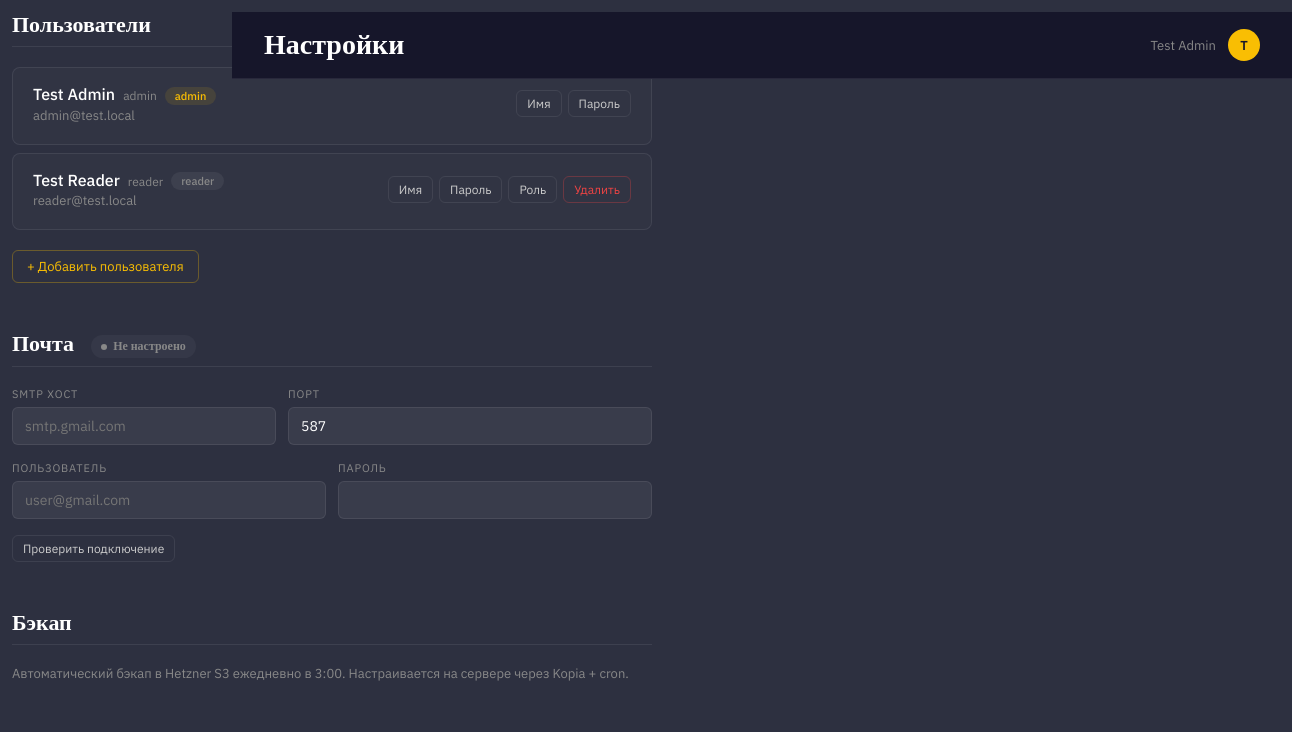
Test: AdminPage › SMTP test › error path: smtp-test 502 shows error message
Click the button "Проверить подключение" at (94, 549), box [12,535,175,562]
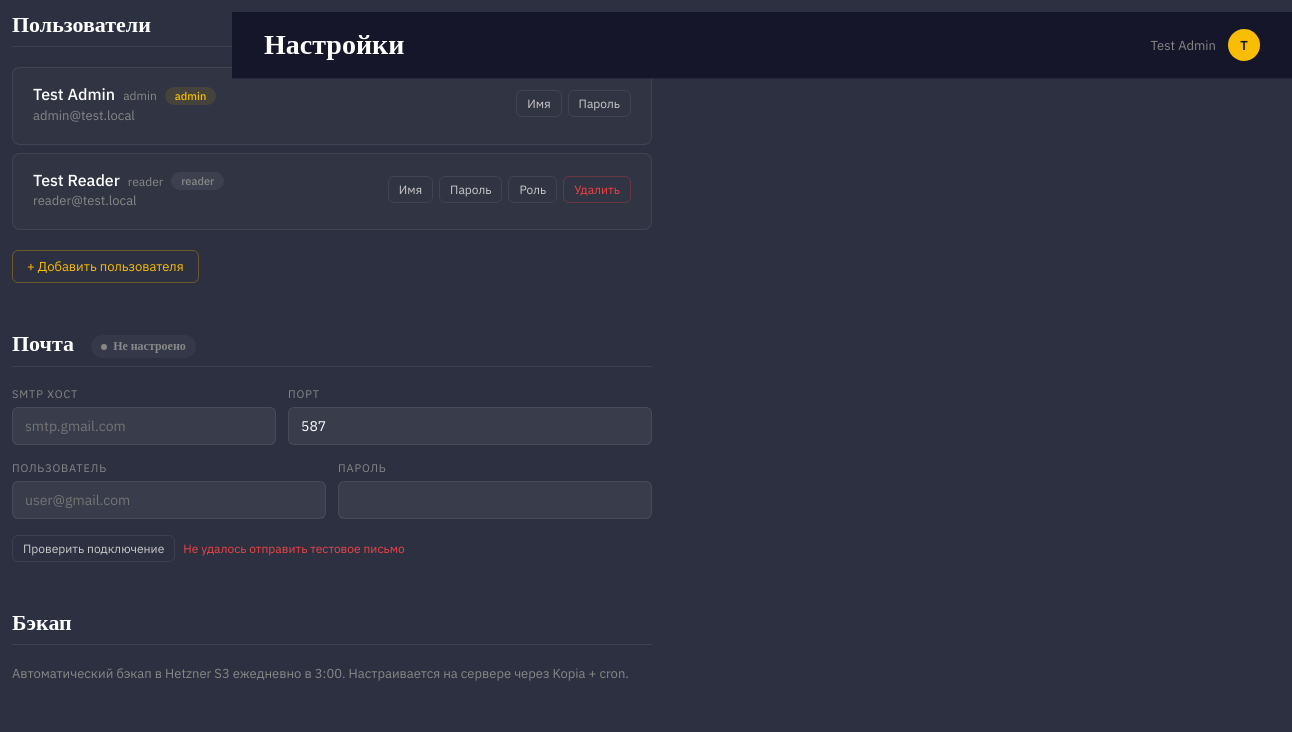
Check: the text "Не удалось отправить тестовое письмо" is shown, box [183,541,405,556]
